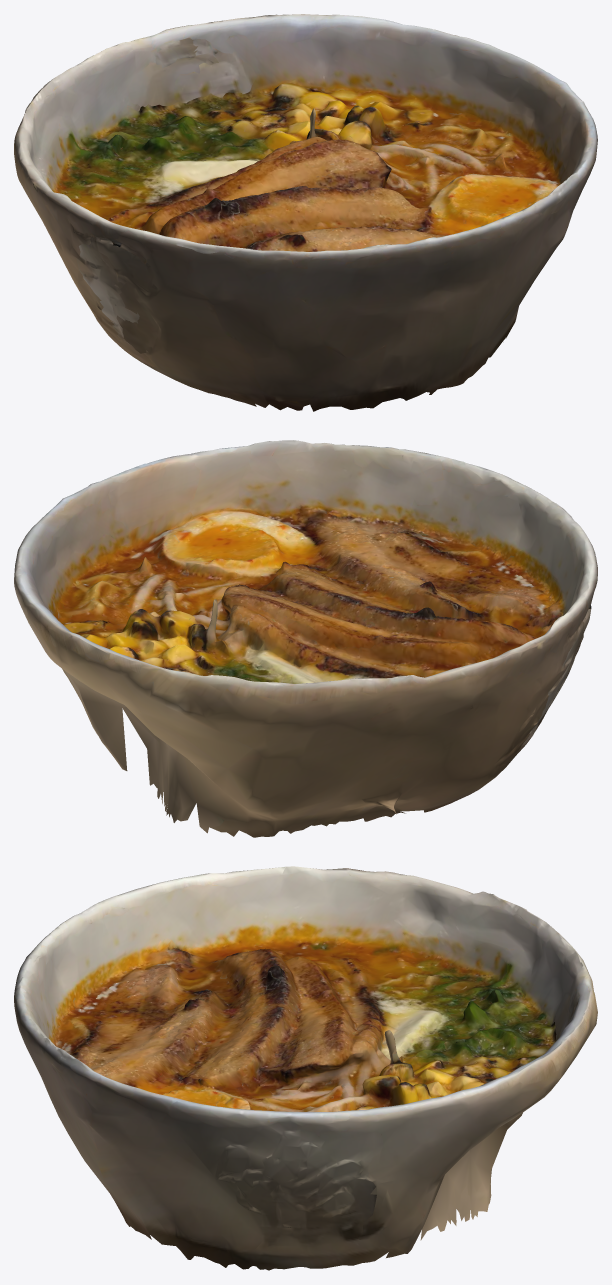
The model's file is bowl-miso.glb.
3 views of the same model, one above another, from view 1: azimuth 30°, elevation 25°; view 2: azimuth 150°, elevation 25°; view 3: azimuth 270°, elevation 25° (orthographic).
Parts seen in each view (by area): view 1: bowl_miso; view 2: bowl_miso; view 3: bowl_miso.
Part boxes in pixels (x1,y1,x2,y2): bowl_miso: (14, 14, 597, 411); bowl_miso: (14, 440, 597, 837); bowl_miso: (14, 866, 597, 1270).
Size of the model in its own units: 2 by 0.7836 by 1.99.
Materials: 1 (1 with a texture image).
